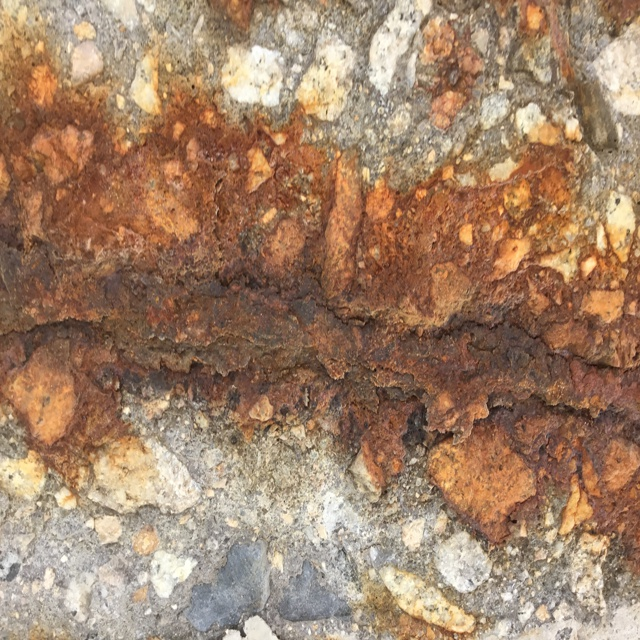rebar: (0, 228, 635, 421)
